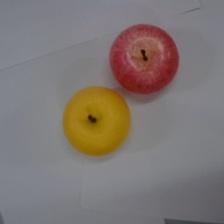red: (109, 22, 180, 95)
yellow: (62, 85, 131, 157)
